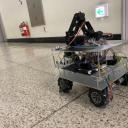cart: (51, 40, 128, 108)
